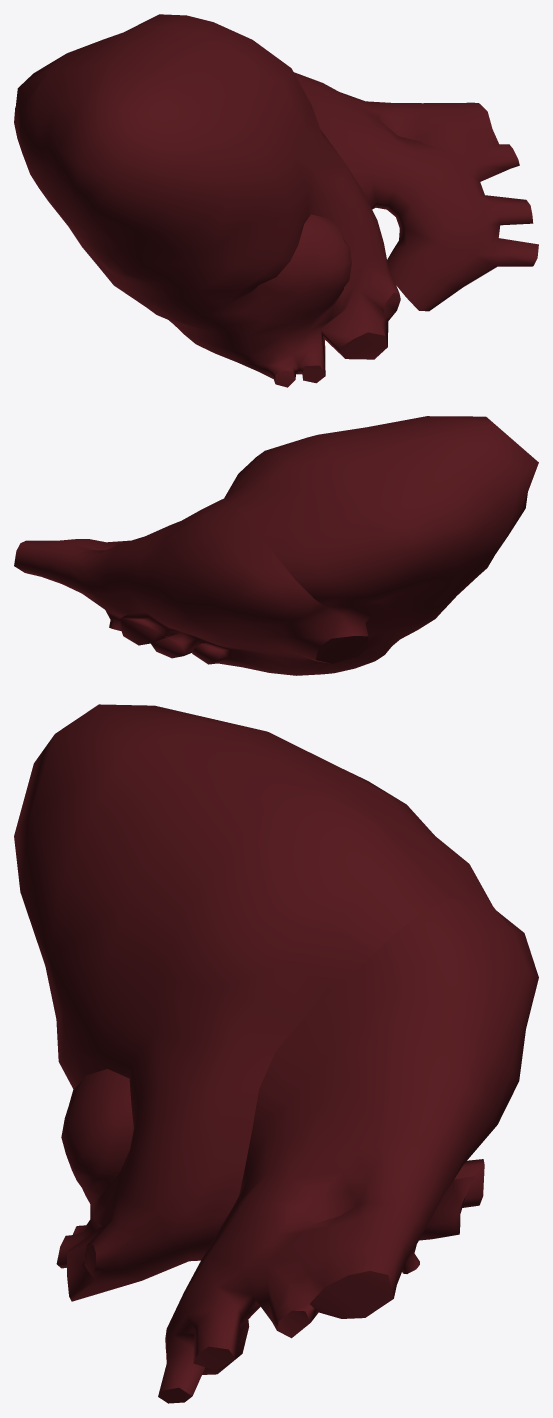
File: heart.dae
The picture shows the model from 3 angles, top to bottom: view 1: azimuth 30°, elevation 25°; view 2: azimuth 150°, elevation 25°; view 3: azimuth 270°, elevation 25°; orthographic projection. The views are drawn at different scales.
Visible parts, largest first — view 1: victim_heart; view 2: victim_heart; view 3: victim_heart.
Part boxes in pixels (box(x1,y1,x2,y2)): victim_heart: box(14, 14, 538, 387); victim_heart: box(14, 416, 538, 675); victim_heart: box(14, 704, 538, 1403).
Bounding box in the file's own units: 0.152 × 0.0897 × 0.0969.
